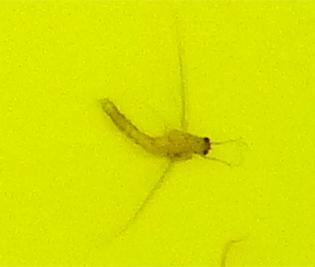Ephemeroptera: (100, 100, 215, 167)
